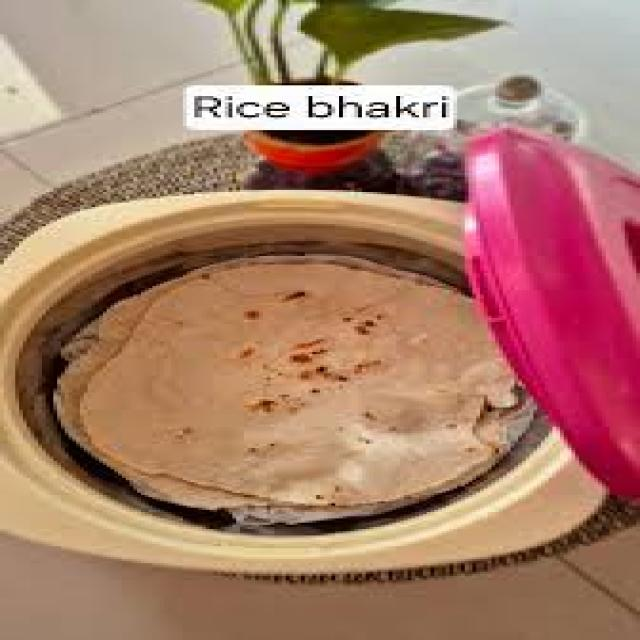ROTI: (61, 260, 514, 506)
